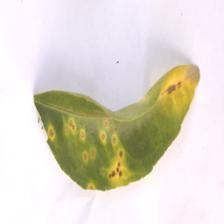canker: (1, 69, 193, 195)
